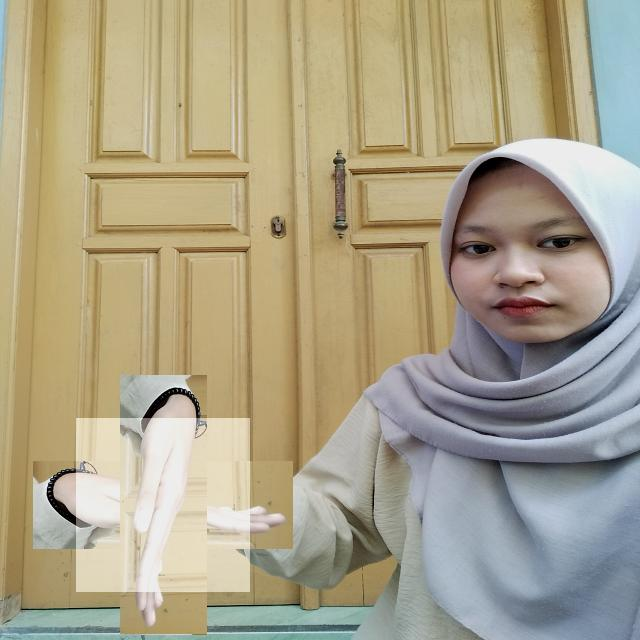adik: (77, 418, 250, 592)
